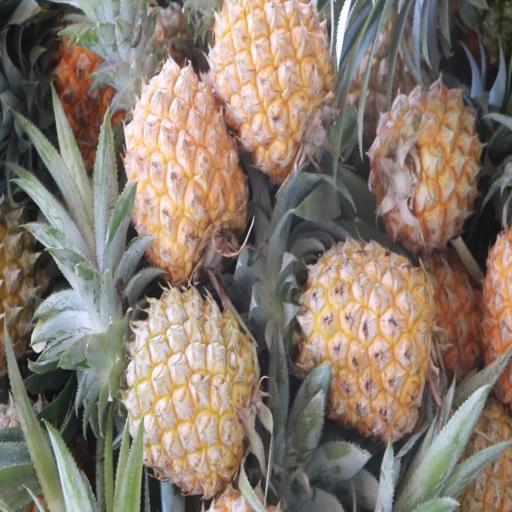Pineapple - v8 v1: (124, 293, 256, 495), (124, 60, 249, 272), (304, 235, 435, 432), (207, 2, 334, 160), (374, 81, 480, 245)
